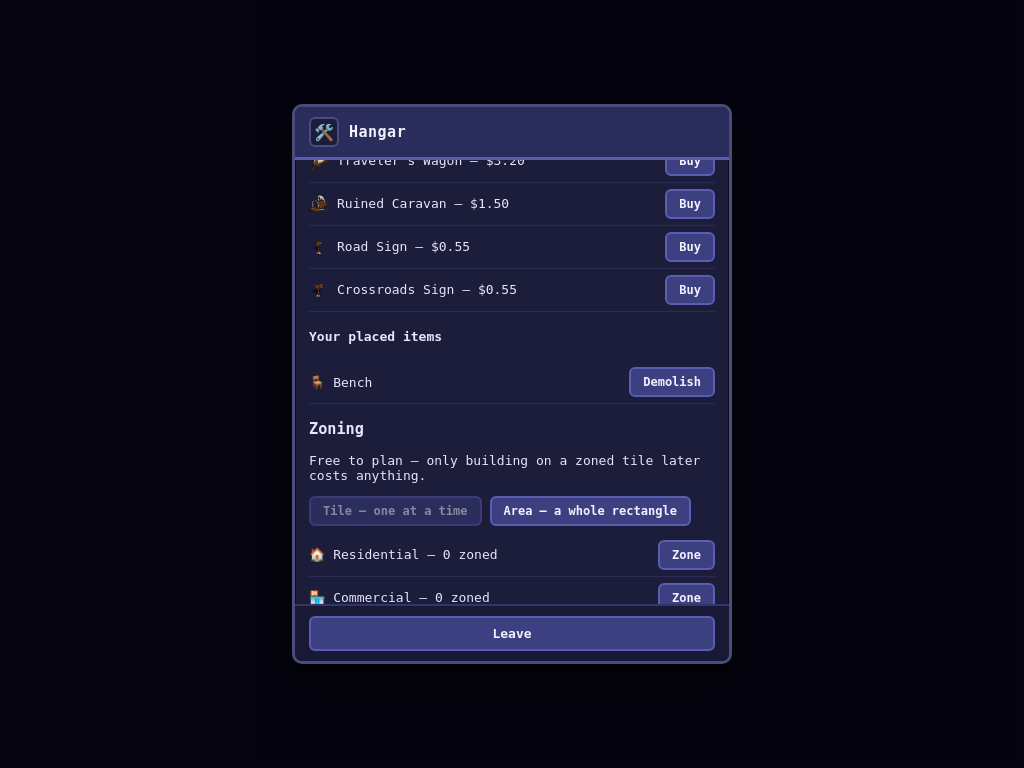
Test case: HangarOverlay › Demolish (wave3-economy-depth.md decision #3) › demolishing a placed decor item refunds its full price and removes the row (two-tap confirm)
(page scrolled)
Check: the heading "Your placed items" is shown, box [309,329,442,344]
Click the button "Demolish" at [672, 382], box [629,367,715,397]
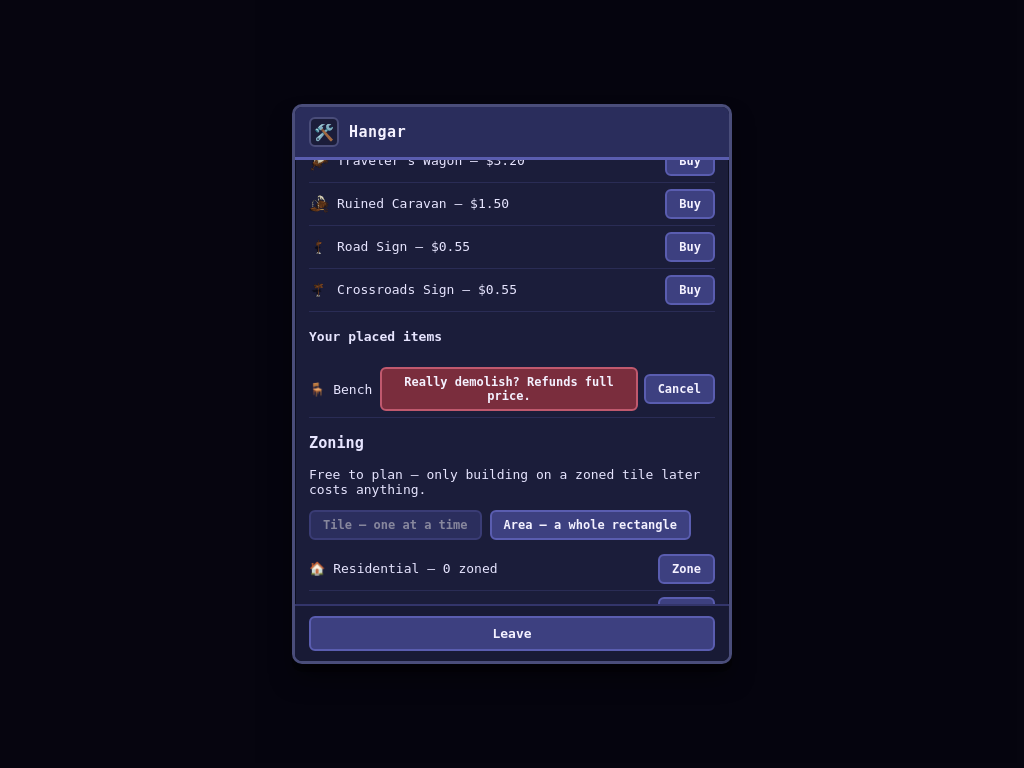
Click the button "Really demolish? Refunds full price." at [509, 389], box [380,367,638,411]
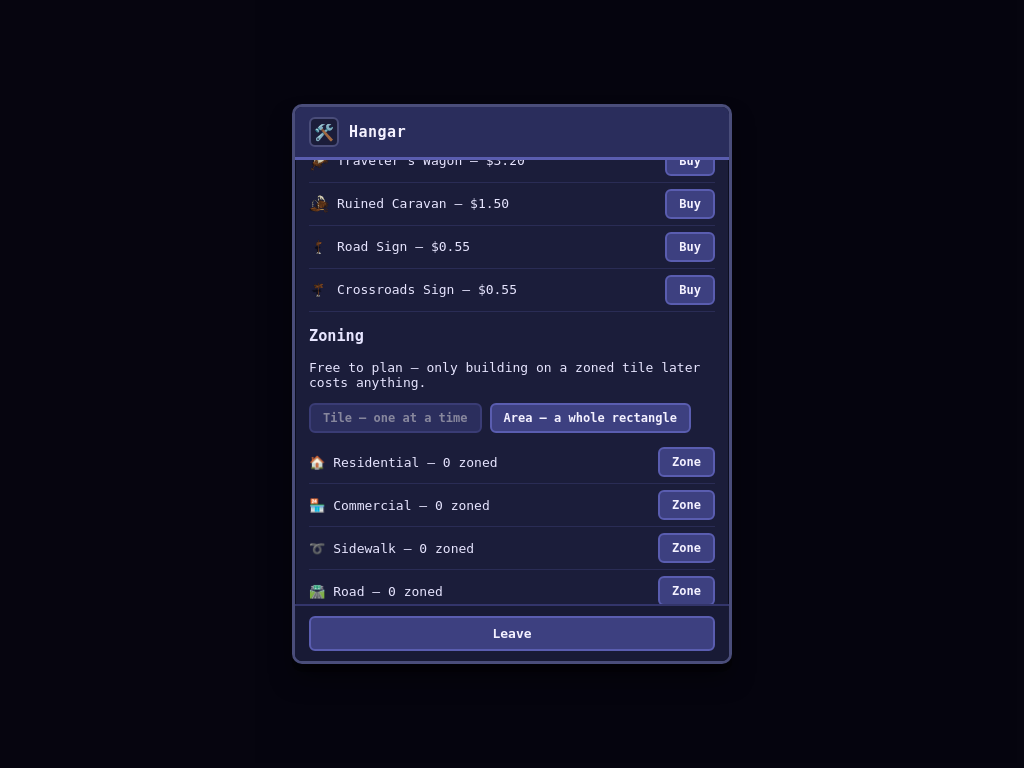
Check: the heading "Your placed items" is gone
